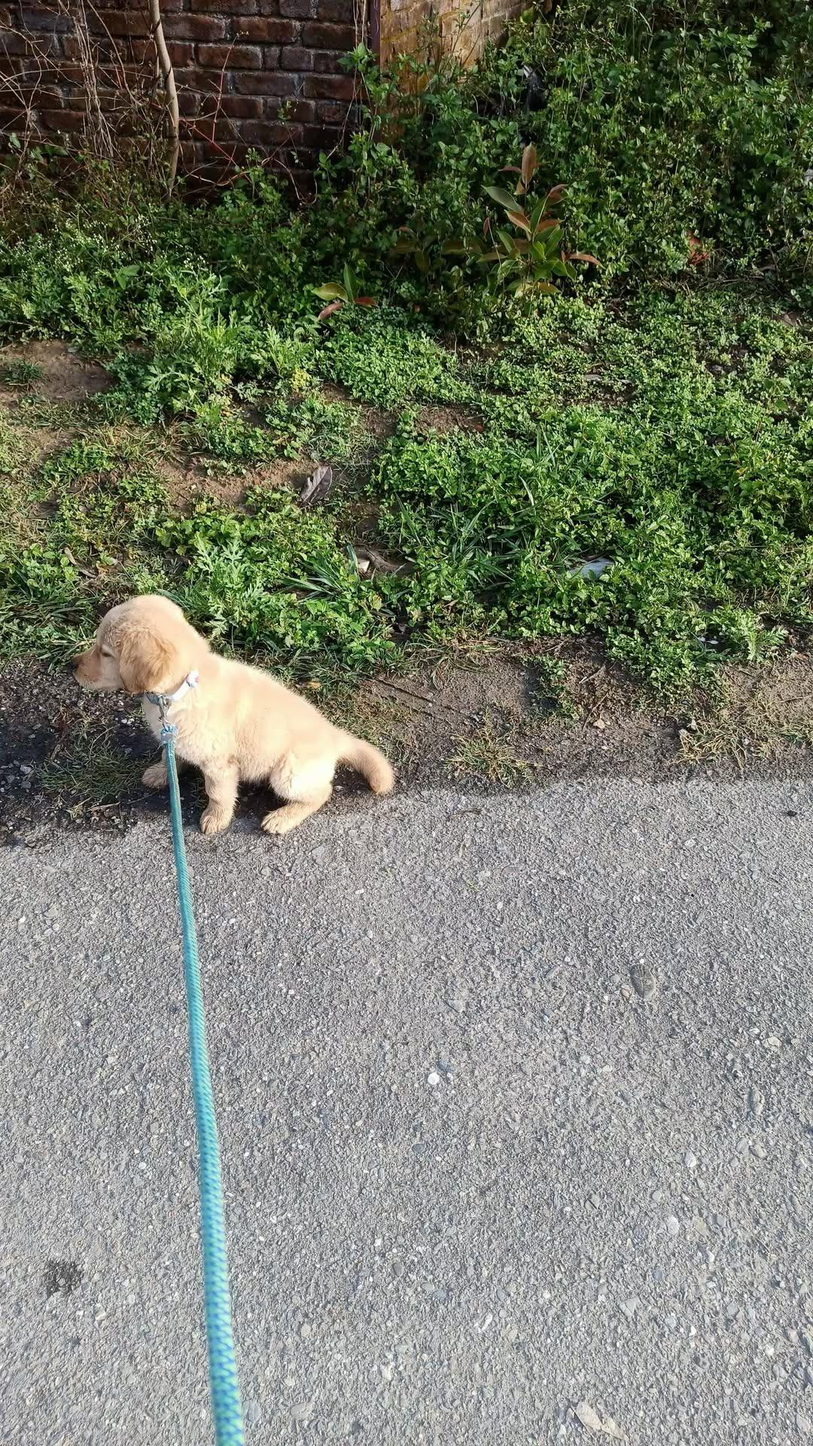puppy-dog: (69, 592, 397, 836)
